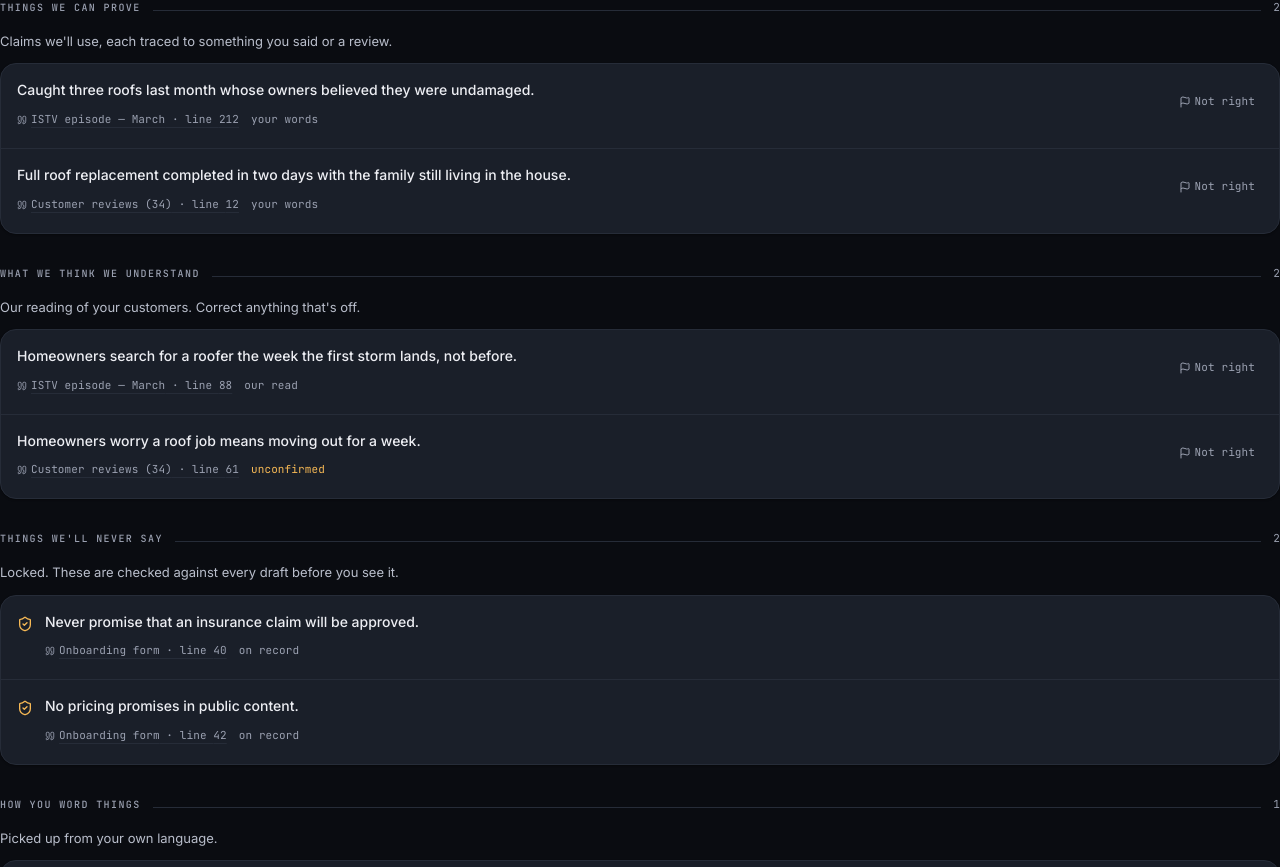
Test: the profile is legible, and read-only › shows where each belief came from, down to the line
Step 1. Click the button "ISTV episode — March · line 212" → [128, 120], box [17,108,239,132]
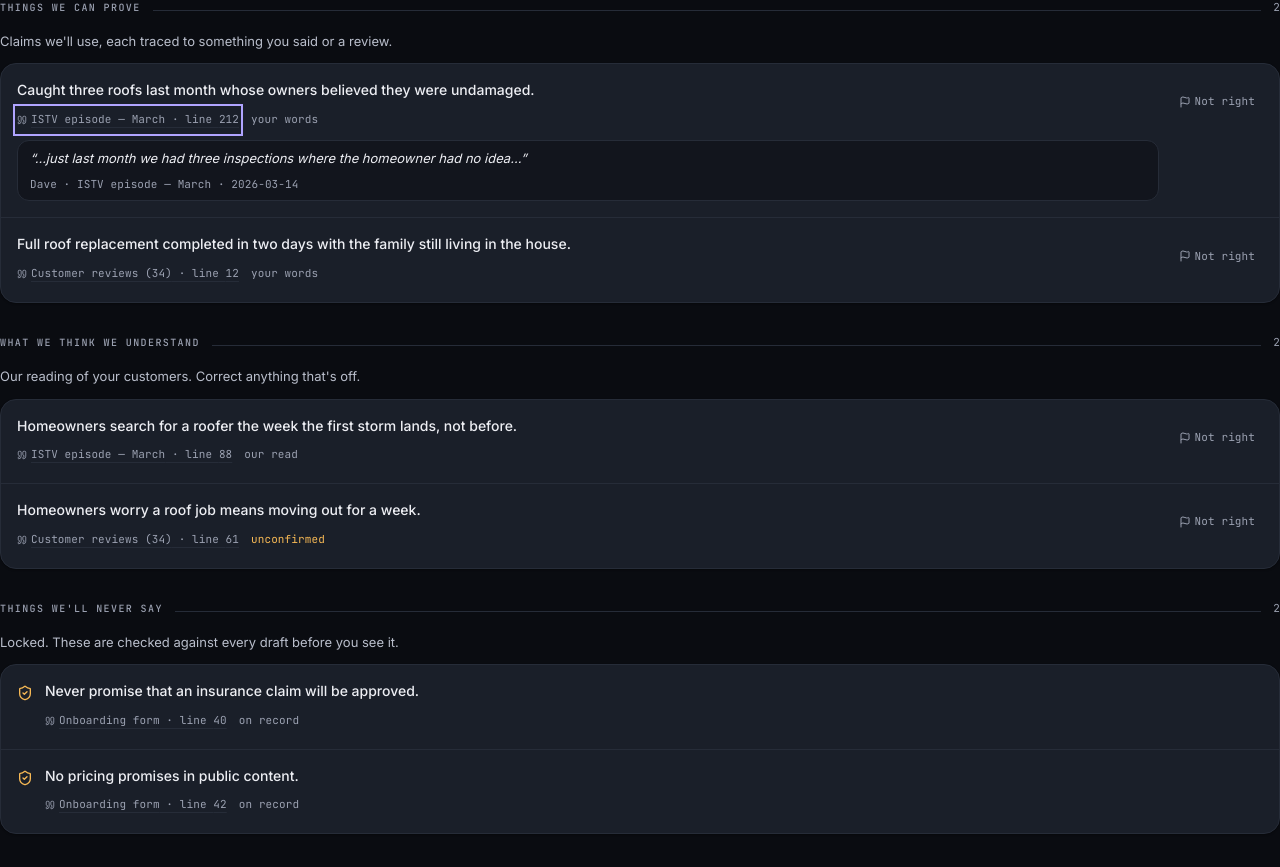
Result: the element with test id "atom-source" shows "Dave" at [30,176,77,190]
Result: the element with test id "atom-source" shows "2026-03-14" at [231,176,298,190]
